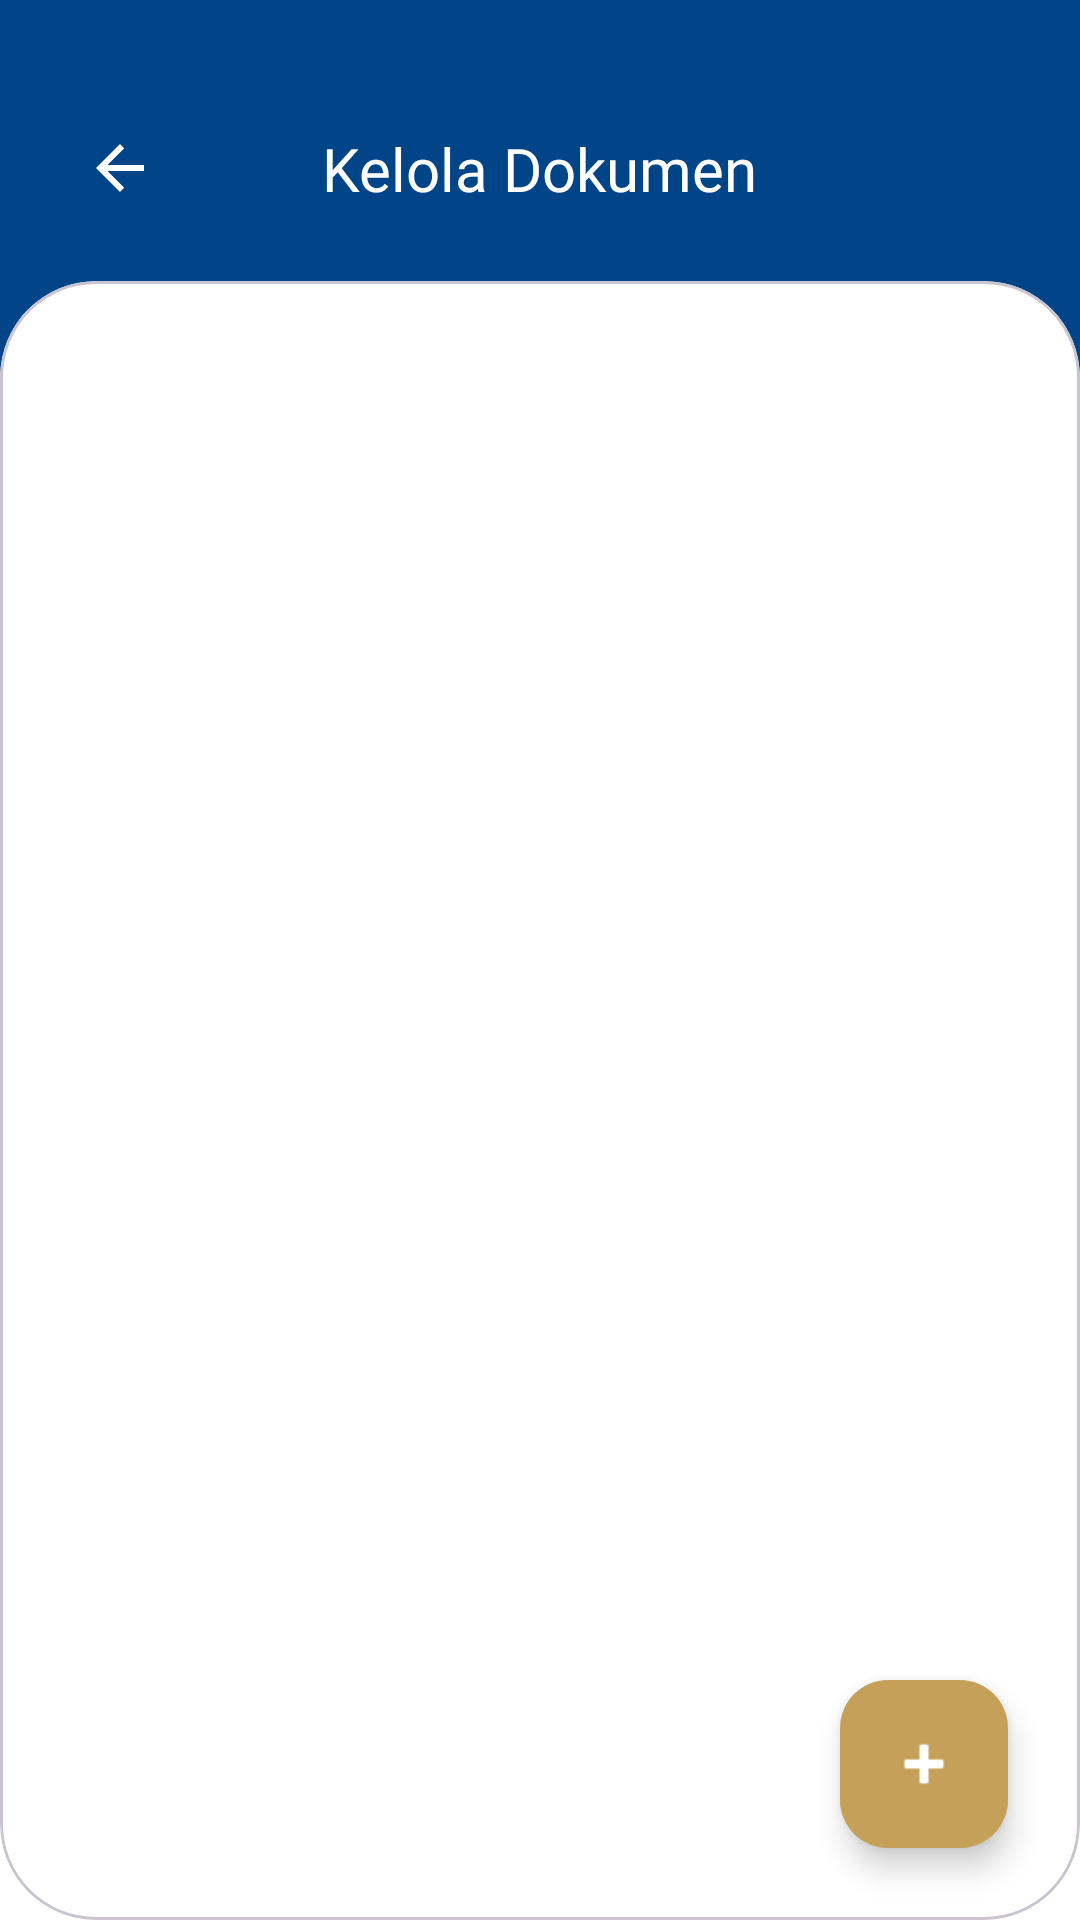

Icon bounding boxes for this 1080px x 1920px phone screenshot, format Rect(x1, y1, x2, y2):
add: Rect(840, 1680, 1008, 1848)
arrow back: Rect(96, 144, 144, 192)
